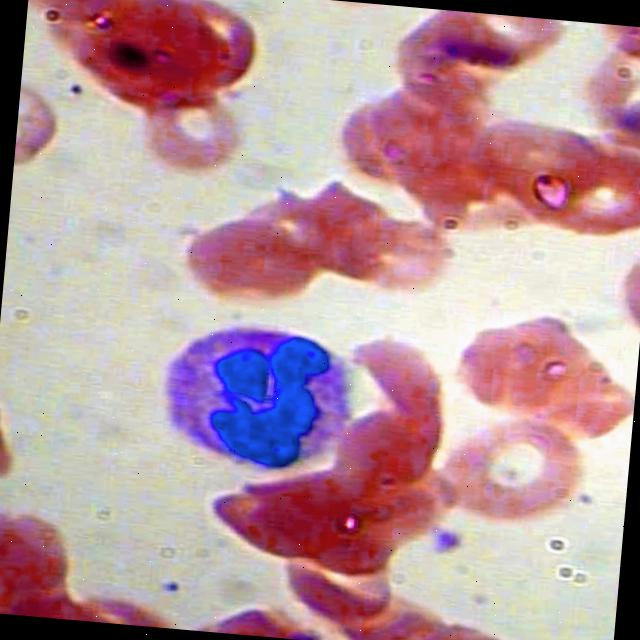Platelets: (420, 524, 474, 560)
RBC: (417, 409, 585, 545), (295, 186, 465, 317), (316, 71, 486, 202), (440, 305, 606, 436), (154, 207, 326, 316), (185, 472, 358, 580), (454, 107, 614, 213), (110, 0, 261, 108), (498, 134, 640, 240), (412, 8, 570, 88), (134, 72, 246, 182)
WBC: (143, 297, 376, 495)
